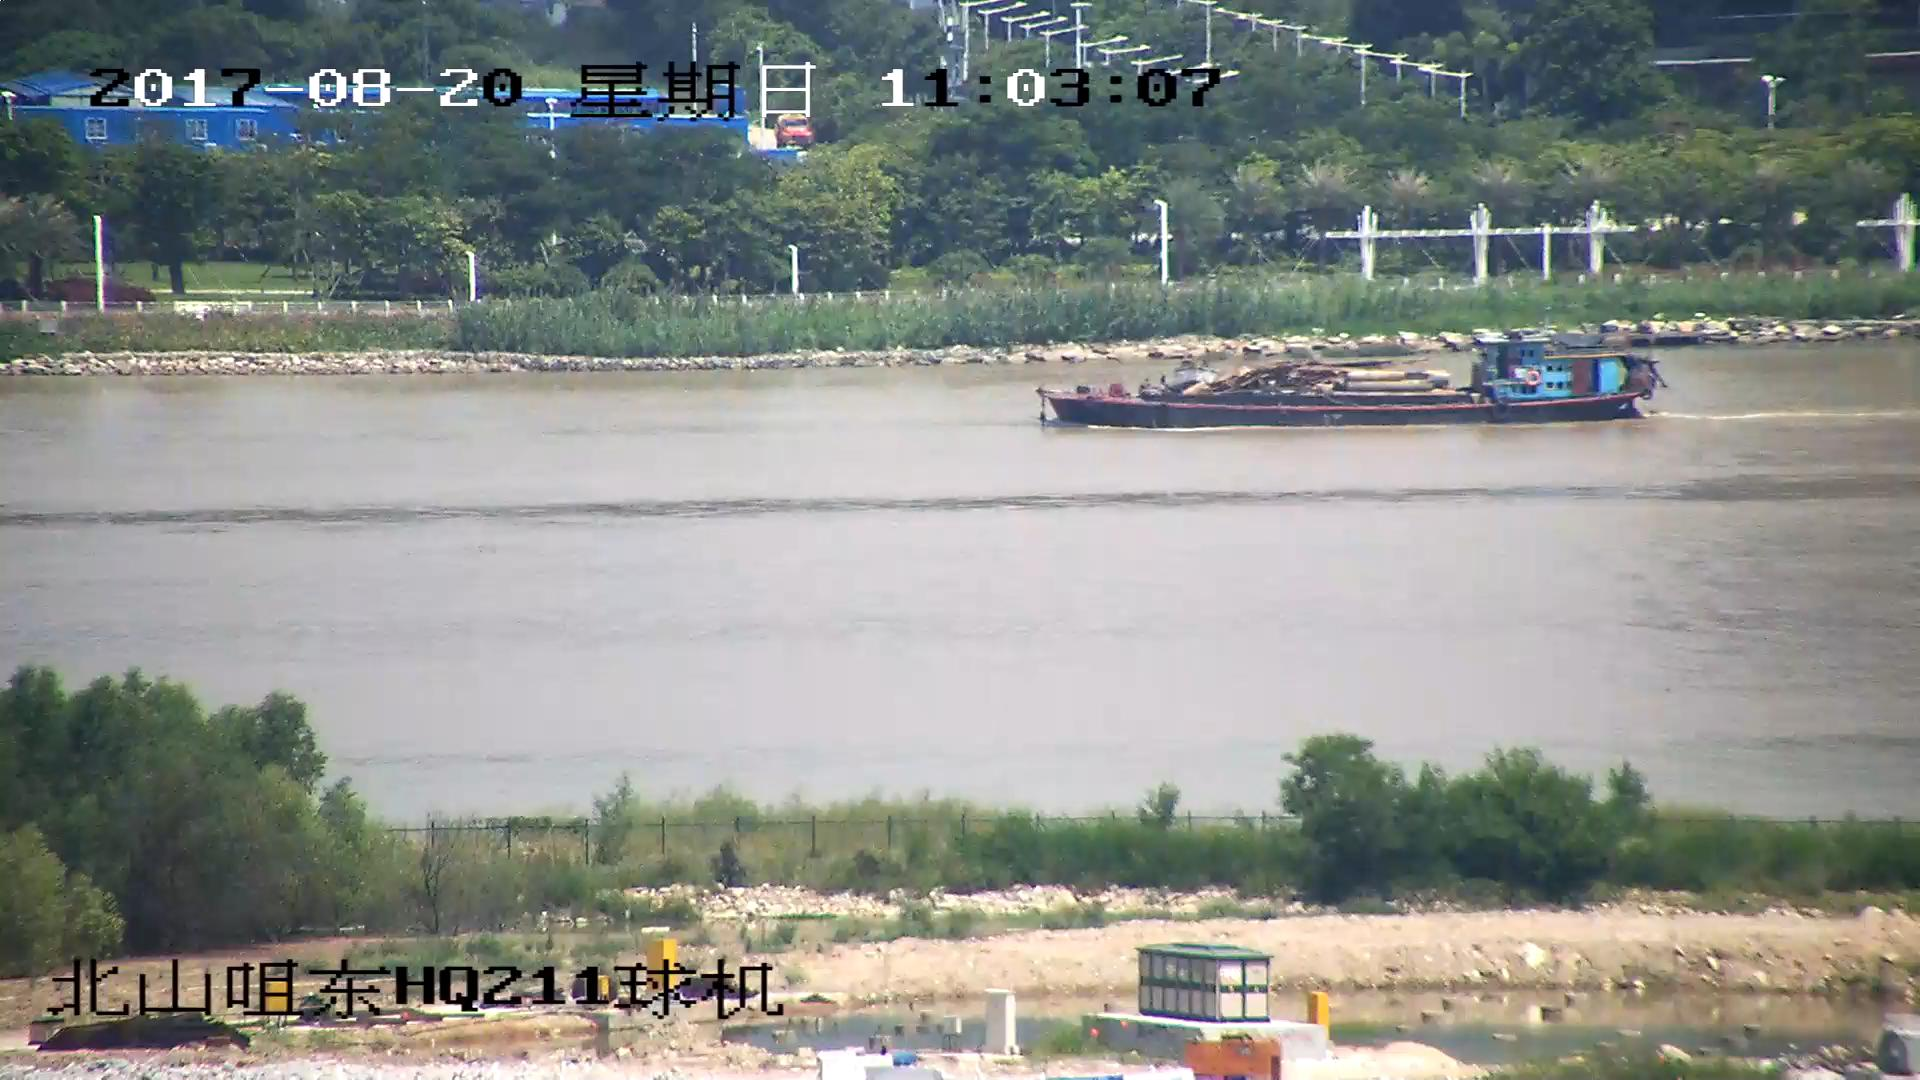bulk cargo carrier: (1042, 338, 1670, 430)
